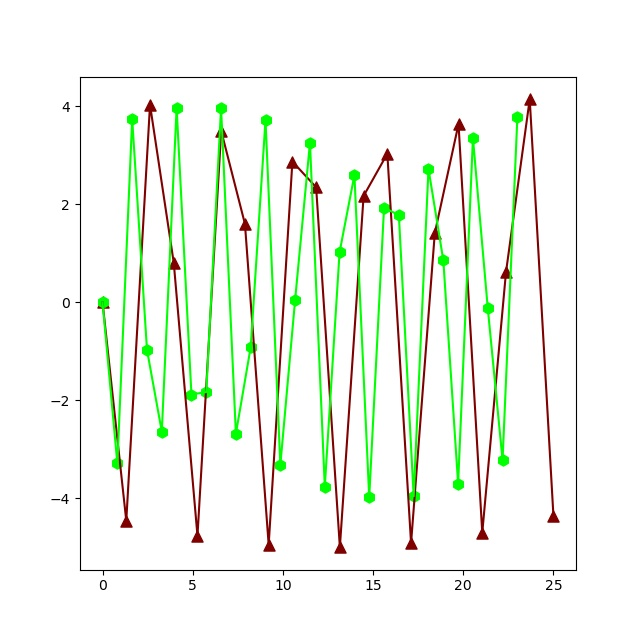hexagon1: (97, 296, 110, 309), (111, 457, 124, 470), (126, 113, 139, 126), (141, 344, 154, 357), (156, 426, 169, 439), (171, 102, 184, 115), (185, 389, 198, 402), (200, 386, 213, 399), (215, 102, 228, 115), (230, 428, 243, 441), (245, 341, 258, 354), (260, 114, 273, 127), (274, 459, 287, 472), (289, 294, 302, 307), (304, 137, 317, 150), (319, 481, 332, 494), (334, 246, 347, 259), (348, 169, 361, 182), (363, 491, 376, 504), (378, 202, 391, 215), (393, 209, 406, 222), (408, 490, 421, 503), (422, 163, 435, 176), (437, 254, 450, 267), (452, 478, 465, 491), (467, 132, 480, 145), (482, 302, 495, 315), (497, 454, 510, 467), (511, 111, 524, 124)
triangle_up: (97, 296, 110, 309), (120, 515, 133, 528), (144, 99, 157, 112), (168, 257, 181, 270), (191, 530, 204, 543), (215, 125, 228, 138), (239, 218, 252, 231), (263, 539, 276, 552), (286, 156, 299, 169), (310, 181, 323, 194), (334, 541, 347, 554), (358, 190, 371, 203), (381, 148, 394, 161), (405, 537, 418, 550), (429, 227, 442, 240), (453, 118, 466, 131), (476, 527, 489, 540), (500, 266, 513, 279), (524, 93, 537, 106), (547, 510, 560, 523)
